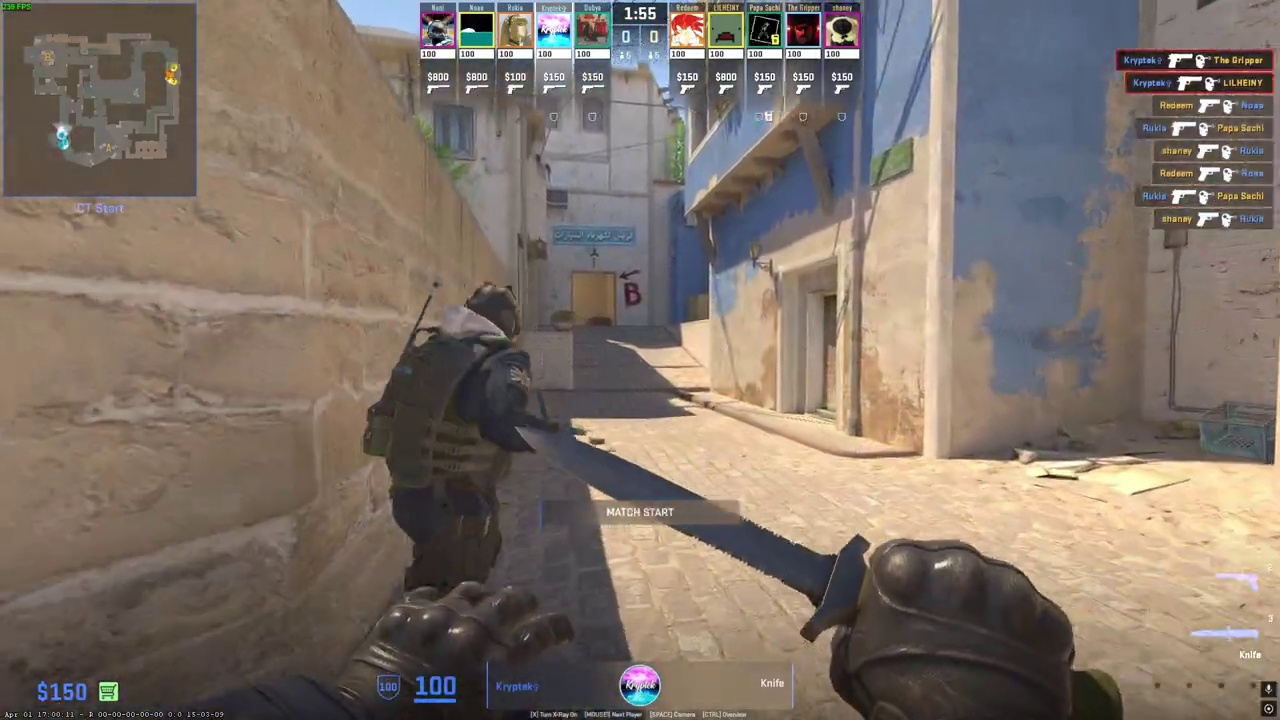CT: (382, 282, 538, 596)
